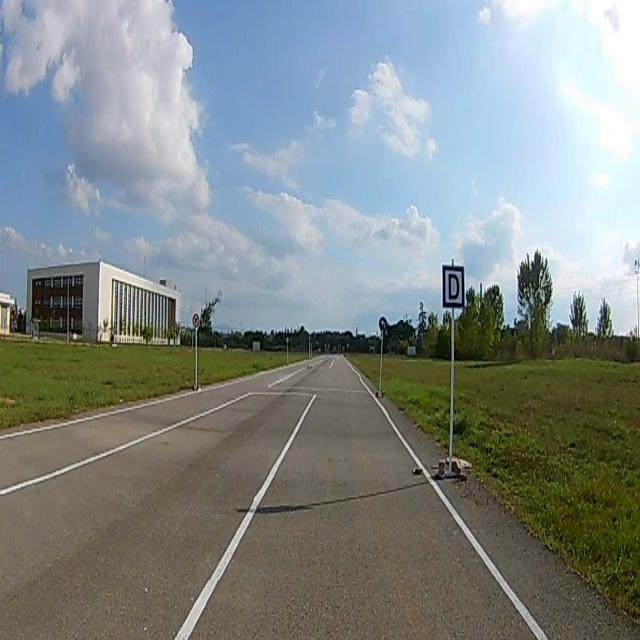durak: (443, 266, 465, 306)
sol: (379, 317, 387, 331)
